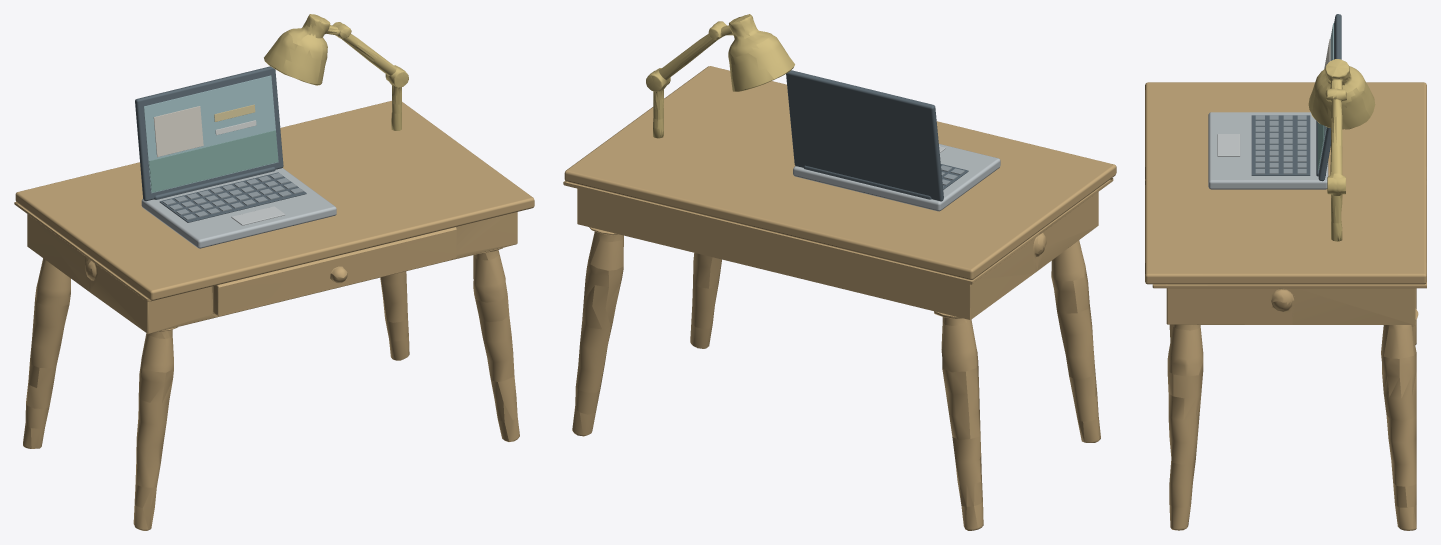
Rendered from escrivaninha.glb.
3 renders of one model, left to right at view 1: azimuth 30°, elevation 25°; view 2: azimuth 150°, elevation 25°; view 3: azimuth 270°, elevation 25°, orthographic. The views are drawn at different scales.
Bounding box in the file's own units: 1.91 × 1.88 × 1.17.
